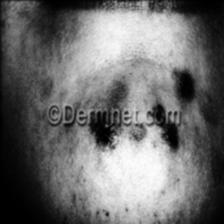Non-Cancerous Skin Condition: (91, 123, 185, 168), (162, 36, 214, 104)
